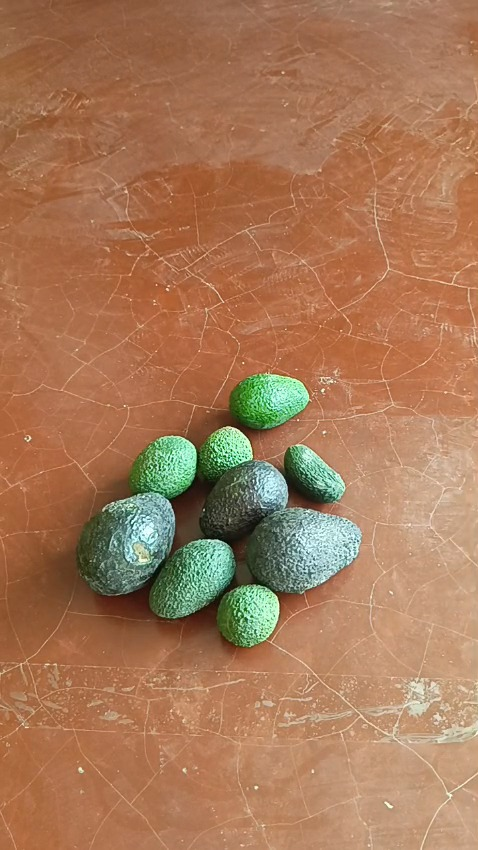Primera: (75, 491, 177, 595), (246, 507, 361, 592), (197, 459, 287, 540)
Segunda: (149, 537, 236, 618), (228, 373, 309, 429), (128, 435, 198, 499)
Tercera: (215, 583, 279, 646), (282, 443, 345, 503), (197, 425, 254, 482)
